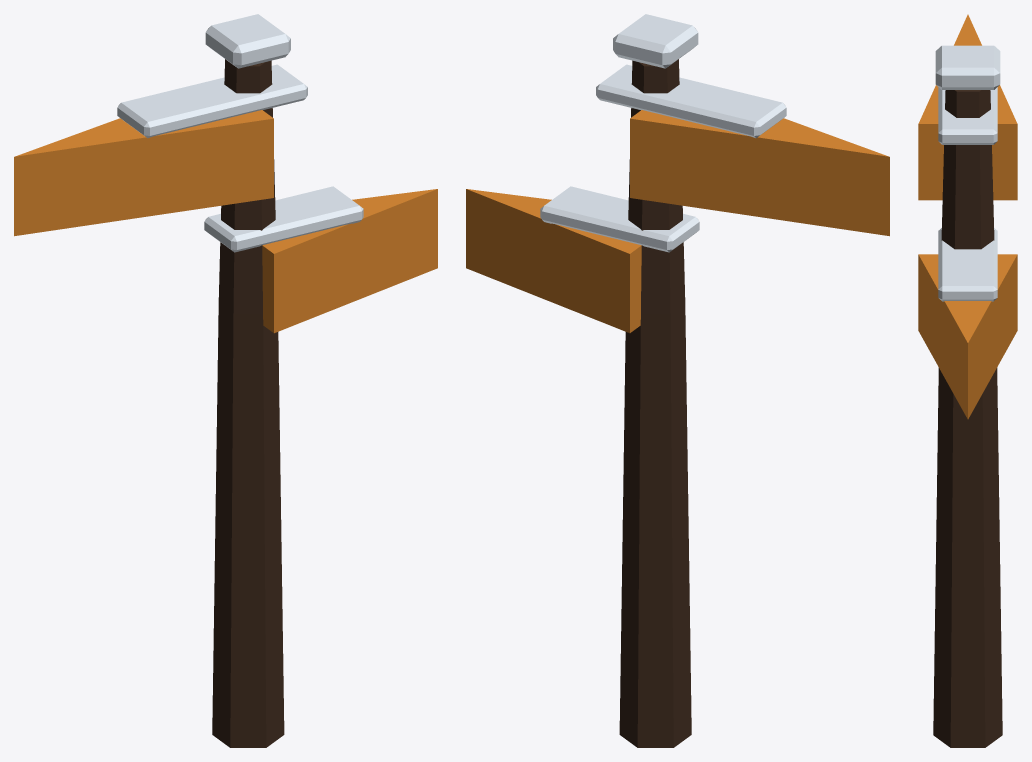
Rendered from Frontier_Prop_RoadSign.fbx.
3 views of the same model, side by side, from view 1: azimuth 30°, elevation 25°; view 2: azimuth 150°, elevation 25°; view 3: azimuth 270°, elevation 25° (orthographic). The views are drawn at different scales.
Visible parts, largest first — view 1: Frontier_Prop_RoadSign; view 2: Frontier_Prop_RoadSign; view 3: Frontier_Prop_RoadSign.
Part boxes in pixels (left/top/right/bottom): Frontier_Prop_RoadSign: left=14, top=14, right=437, bottom=747; Frontier_Prop_RoadSign: left=466, top=14, right=889, bottom=747; Frontier_Prop_RoadSign: left=918, top=14, right=1017, bottom=747.
Bounding box in the file's own units: 190 × 302 × 40.
